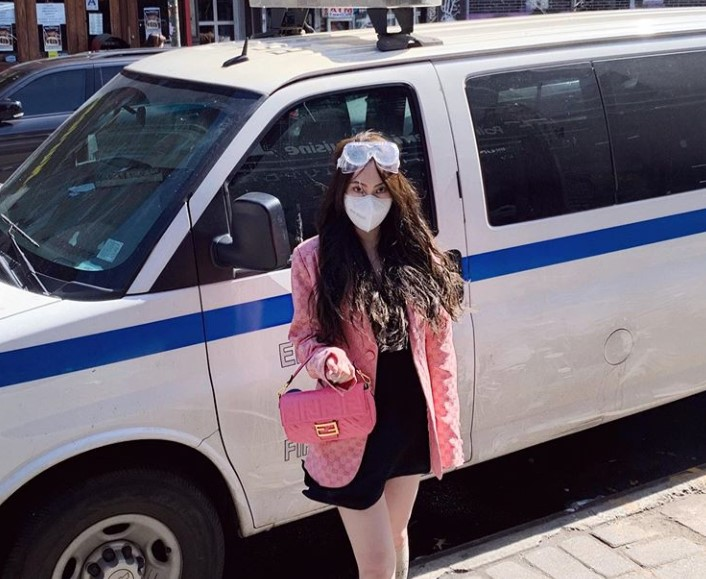face_with_mask: (333, 139, 403, 234)
